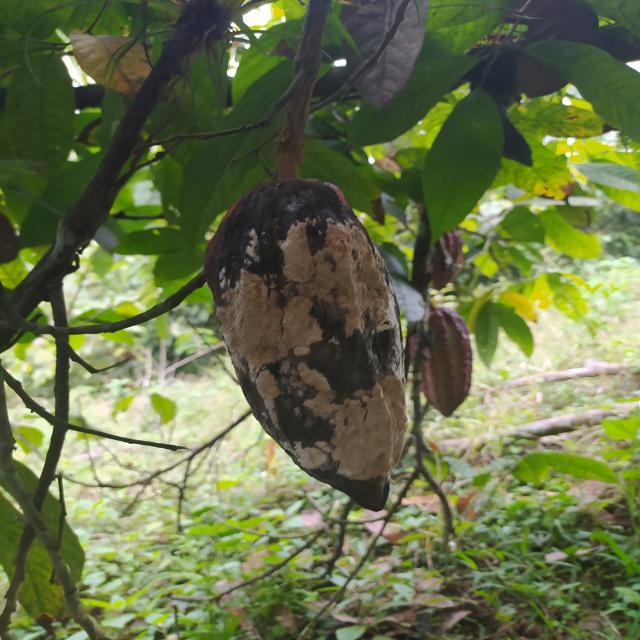Monilia: (202, 176, 414, 513)
Sana: (408, 306, 473, 417)
